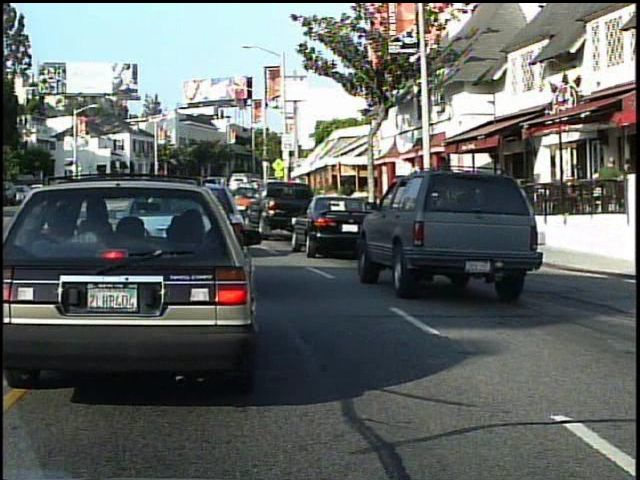person: (591, 151, 626, 234)
